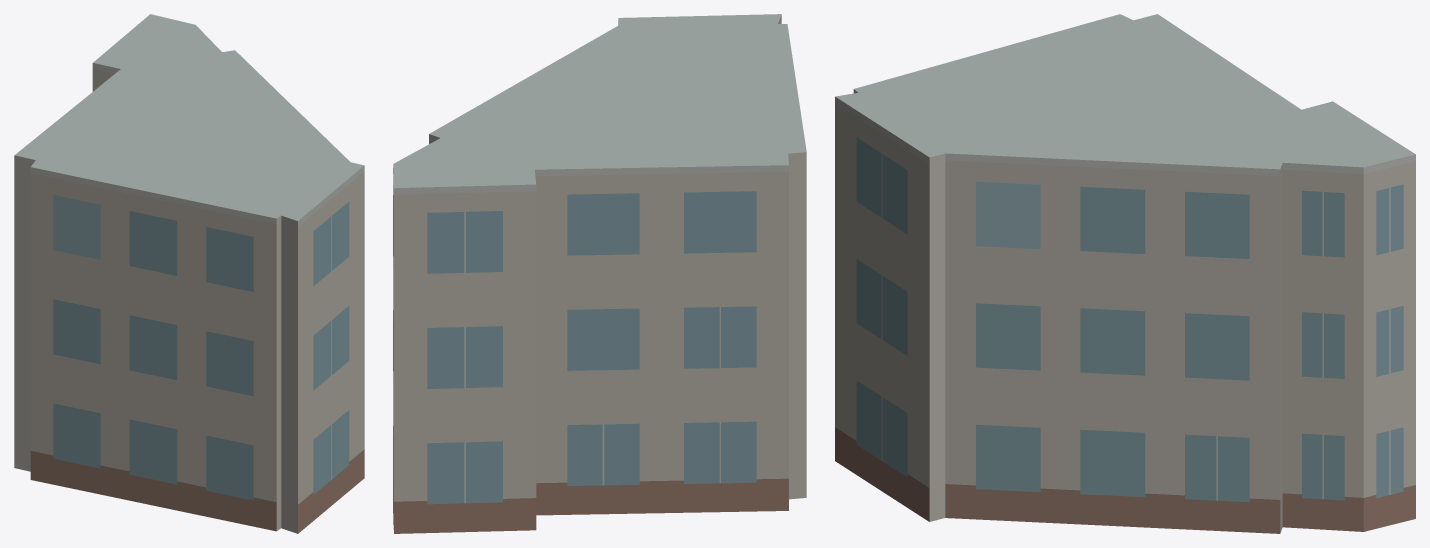
The model's file is survey-upis-32673317.glb.
The picture shows the model from 3 angles, left to right: view 1: azimuth 30°, elevation 25°; view 2: azimuth 150°, elevation 25°; view 3: azimuth 270°, elevation 25°; orthographic projection. The views are drawn at different scales.
Visible parts, largest first — view 1: survey-upis-32673317.tmp; view 2: survey-upis-32673317.tmp; view 3: survey-upis-32673317.tmp.
Part boxes in pixels (left/top/right/bottom): survey-upis-32673317.tmp: left=14, top=14, right=364, bottom=533; survey-upis-32673317.tmp: left=393, top=14, right=806, bottom=533; survey-upis-32673317.tmp: left=835, top=14, right=1415, bottom=533.
Size of the model in its own units: 11.89 by 13 by 18.78.
